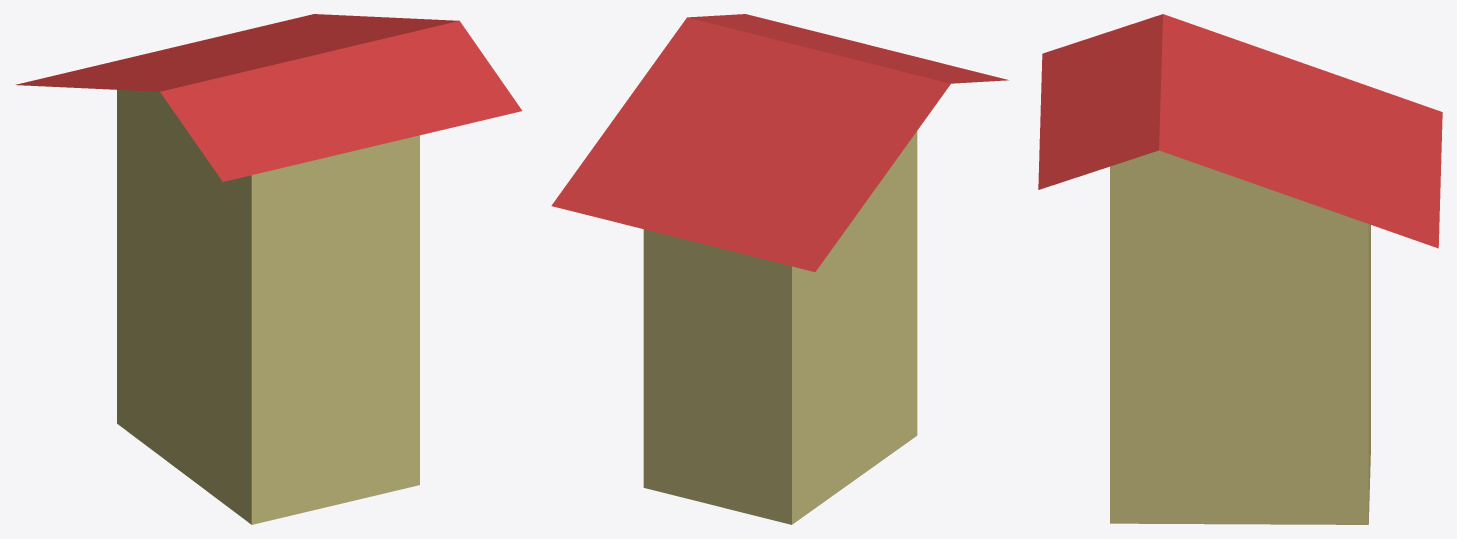
3 views of the same model, side by side, from view 1: azimuth 30°, elevation 25°; view 2: azimuth 150°, elevation 25°; view 3: azimuth 270°, elevation 25° (orthographic). The views are drawn at different scales.
Size of the model in its own units: 3.47 by 4.28 by 4.71.
